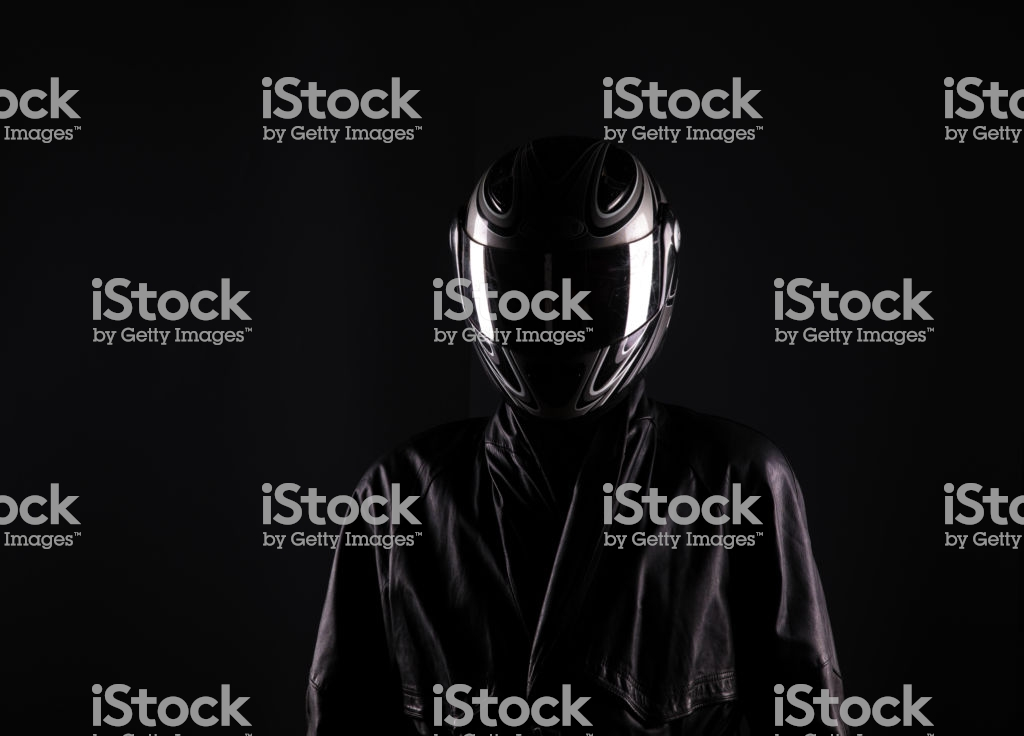helmet: (442, 133, 673, 411)
